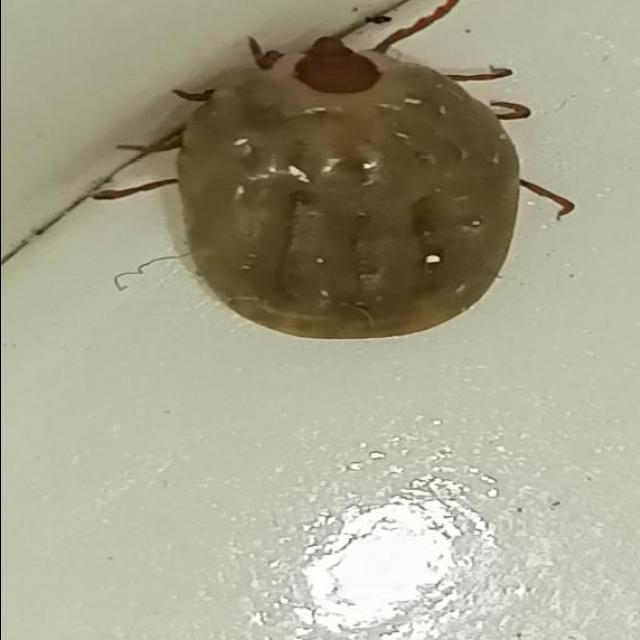Rhipicephalus Sanguineus-F-Fed: (85, 0, 581, 341)
